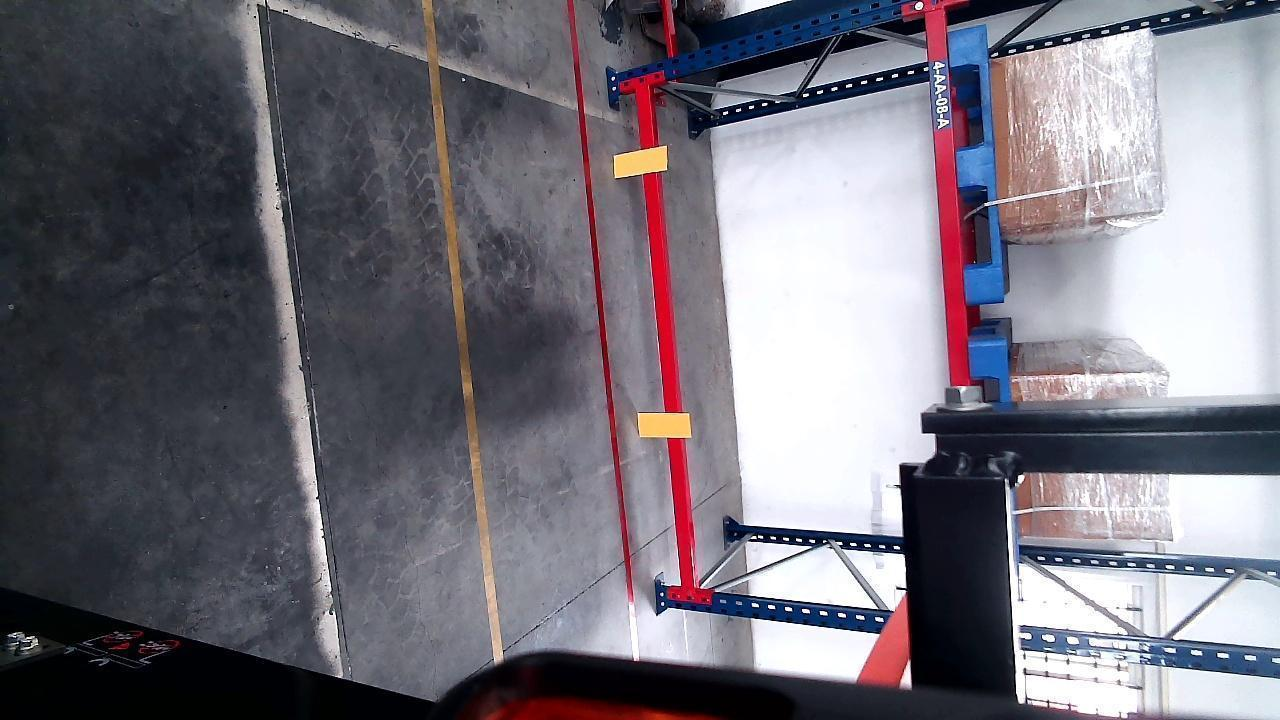red_line: (560, 0, 640, 656)
